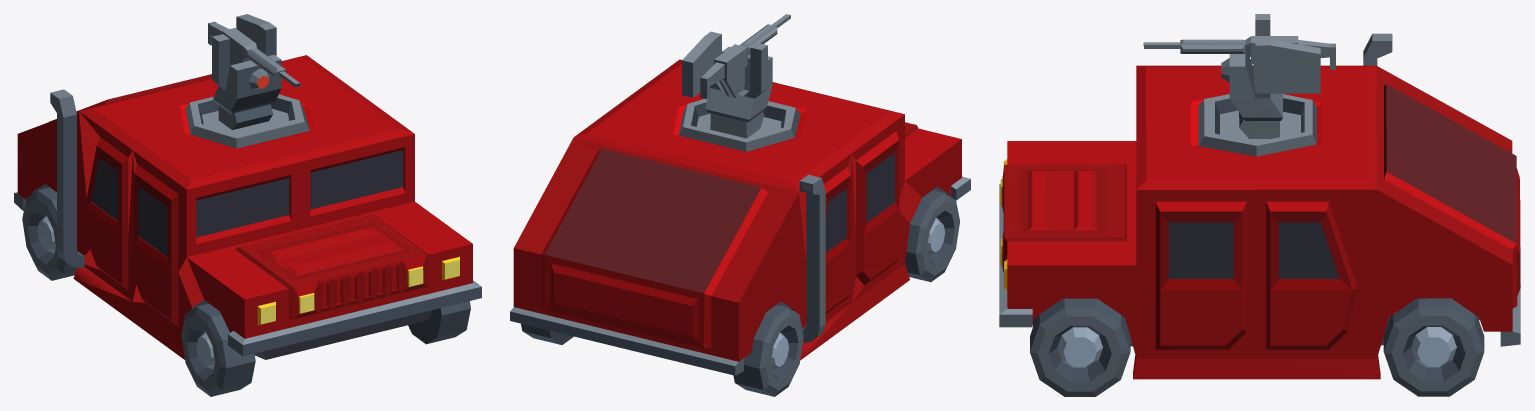
The model's file is Armored_Vehicles_Red.fbx.
The picture shows the model from 3 angles, left to right: view 1: azimuth 30°, elevation 25°; view 2: azimuth 150°, elevation 25°; view 3: azimuth 270°, elevation 25°; orthographic projection. The views are drawn at different scales.
Parts seen in each view (by area): view 1: Armored_Vehicles_Red; view 2: Armored_Vehicles_Red; view 3: Armored_Vehicles_Red.
Part boxes in pixels (left/top/right/bottom): Armored_Vehicles_Red: left=14, top=14, right=481, bottom=396; Armored_Vehicles_Red: left=510, top=14, right=970, bottom=396; Armored_Vehicles_Red: left=999, top=14, right=1520, bottom=396.
Bounding box in the file's own units: 163 × 161 × 253.
1 material, 1 textured.
